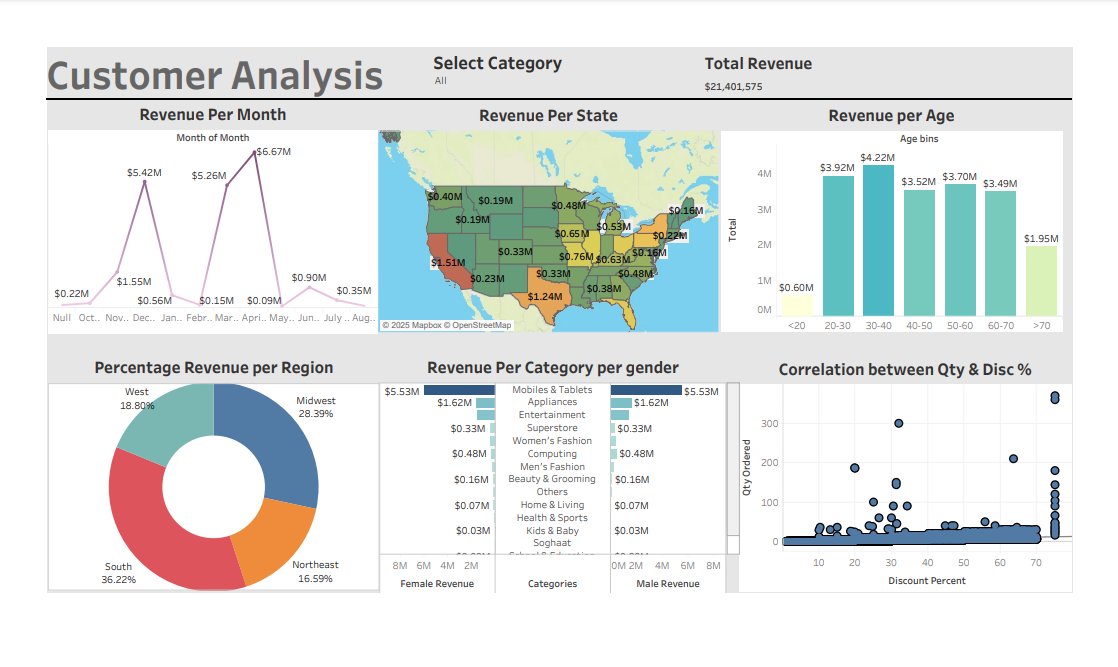

The page's visual inventory and layout, read from the dashboard file:
{"tool":"tableau","page":{"name":"Dashboard 1","canvas":[1600,850],"ordinal":0},"visuals":[{"type":"worksheet","title":"Total Revenue","mark":"Automatic","box":[1022,2,220,77]},{"type":"filter","title":"Revenue Per Category per gender","param":"[federated.02mo8z7112k32v149ahtt1kmac4r].[none:category:nk]","box":[603,4,400,86]},{"type":"worksheet","title":"Revenue Per Month","mark":"Automatic","rows":["total"],"cols":["month"],"box":[2,81,514,366]},{"type":"worksheet","title":"Revenue Per State","mark":"Automatic","box":[516,82,533,364]},{"type":"worksheet","title":"Revenue per Age","mark":"Automatic","rows":["total"],"cols":["Age (bin)"],"box":[1051,83,533,362]},{"type":"worksheet","title":"Percentage Revenue per Region","mark":"Pie","rows":["Calculation_2077003899336925185","Calculation_2077003899336925185"],"box":[2,476,517,372]},{"type":"worksheet","title":"Correlation between Qty & Disc %","mark":"Circle","rows":["qty_ordered"],"cols":["Discount_Percent"],"box":[1080,478,518,372]},{"type":"legend","title":"Percentage Revenue per Region","param":"[federated.02mo8z7112k32v149ahtt1kmac4r].[none:Region:nk]","box":[745,598,140,106]}]}

Visuals, with their boxes on the page's 1600x850 design canvas (x1, y1, x2, y2). These are canvas units, not pixel positions in the 1118x667 screenshot, which may show the page scaled, cropped or inside an application window:
"Total Revenue" worksheet: [x1=1022, y1=2, x2=1242, y2=79]
"Revenue Per Category per gender" filter: [x1=603, y1=4, x2=1003, y2=90]
"Revenue Per Month" worksheet: [x1=2, y1=81, x2=516, y2=447]
"Revenue Per State" worksheet: [x1=516, y1=82, x2=1049, y2=446]
"Revenue per Age" worksheet: [x1=1051, y1=83, x2=1584, y2=445]
"Percentage Revenue per Region" worksheet (Pie marks): [x1=2, y1=476, x2=519, y2=848]
"Correlation between Qty & Disc %" worksheet (Circle marks): [x1=1080, y1=478, x2=1598, y2=850]
"Percentage Revenue per Region" legend: [x1=745, y1=598, x2=885, y2=704]
